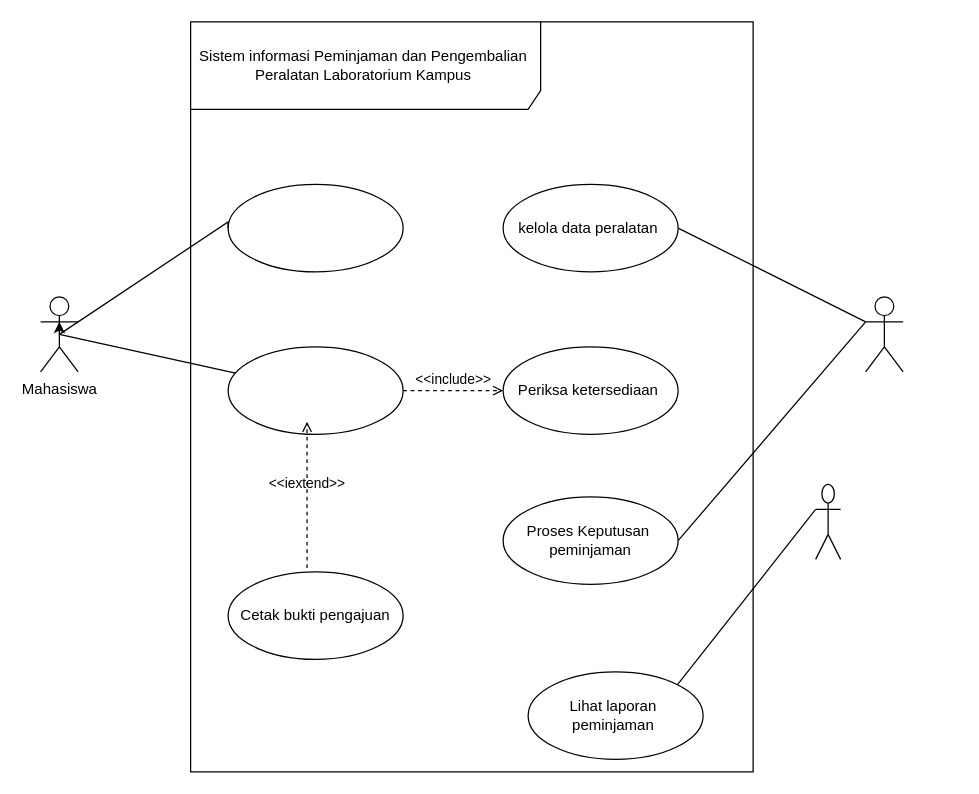
Some shapes in this 979 by 794 pixel diagram are drawn without their labels. Each missing label, with the centre of its shape:
Ajukan peminjaman: the point at 315,390
Kepala Laboratorium: the point at 827,521
Lihat ketersediaan peralatan: the point at 315,227
Petugas Laboratorium: the point at 883,334
